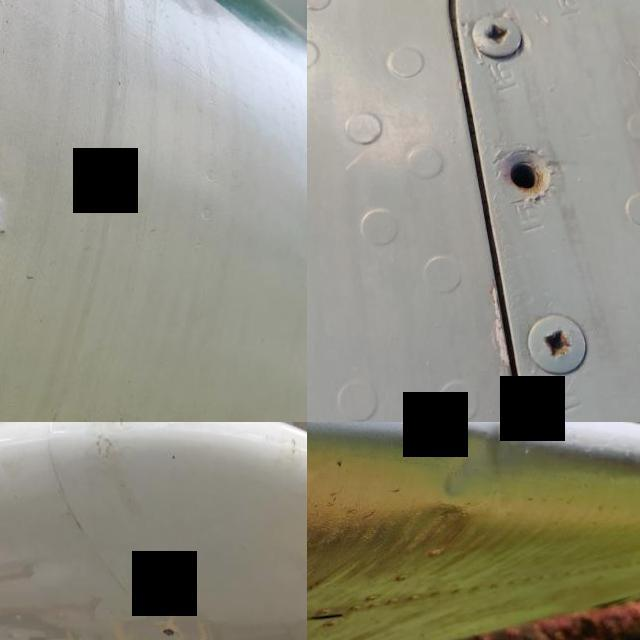Crack: (79, 422, 149, 484), (256, 422, 307, 479), (0, 182, 21, 242)
Dent: (418, 422, 527, 517)
Missing_Fastener: (476, 120, 576, 224)
